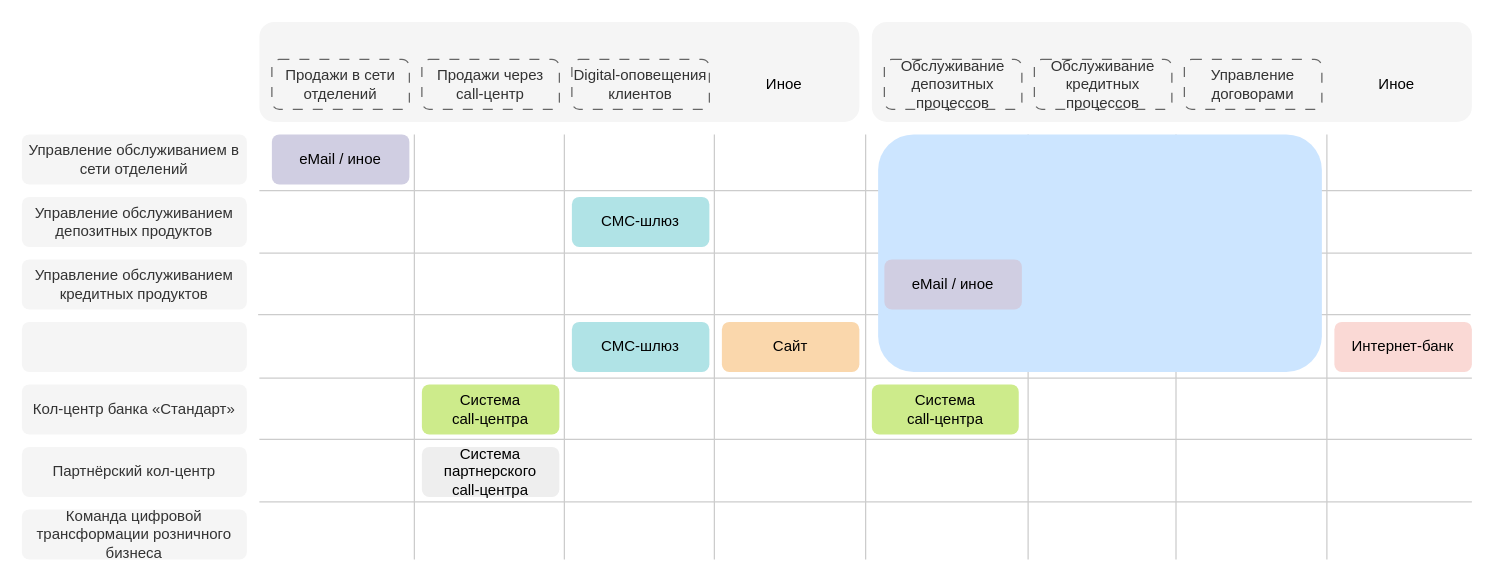
Some shapes in this 1495 by 583 pixel diagram are drawn without their labels. The box of each missing label's shape, as (x1, y1, x2, y2) in pixels:
АБС: (878, 134, 1321, 371)
Поддержка операционных процессов: (871, 21, 1471, 121)
Продажи и маркетинг: (259, 21, 859, 121)
Управление IT: (21, 321, 246, 371)
